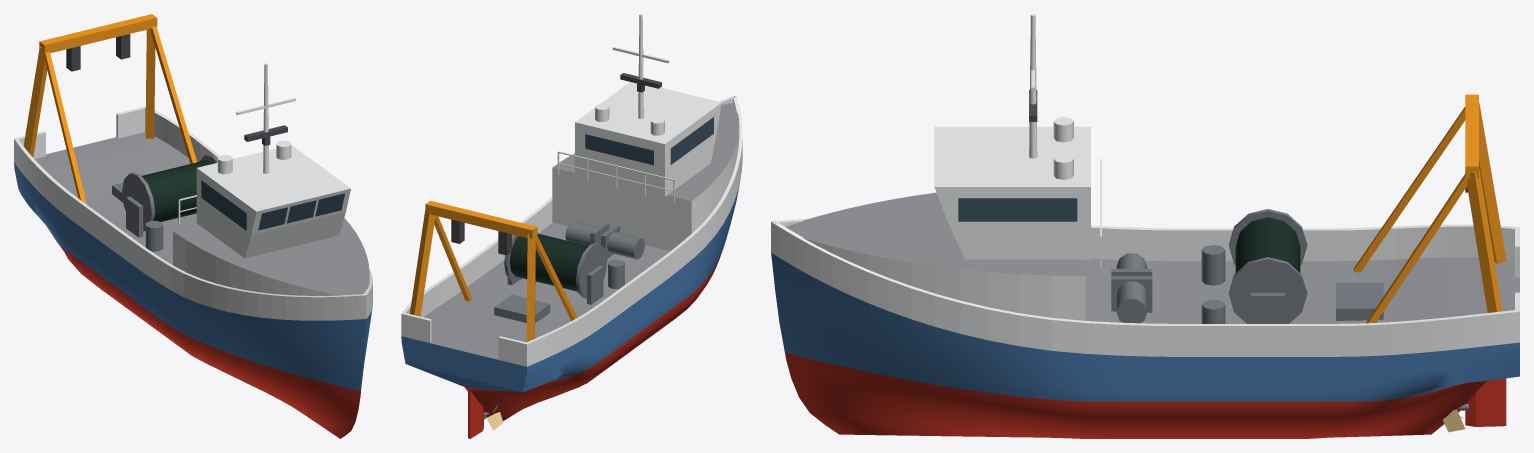
File: ambient_fishing_boat_close.fbx
3 views of the same model, side by side, from view 1: azimuth 30°, elevation 25°; view 2: azimuth 150°, elevation 25°; view 3: azimuth 270°, elevation 25° (orthographic). The views are drawn at different scales.
Visible parts, largest first — view 1: ambient_fishing_boat_close; view 2: ambient_fishing_boat_close; view 3: ambient_fishing_boat_close.
Part boxes in pixels (x1=…): ambient_fishing_boat_close: x1=14, y1=14, x2=372, y2=438; ambient_fishing_boat_close: x1=401, y1=14, x2=742, y2=438; ambient_fishing_boat_close: x1=771, y1=14, x2=1519, y2=438.
Bounding box in the file's own units: 6.8 × 13.6 × 22.
